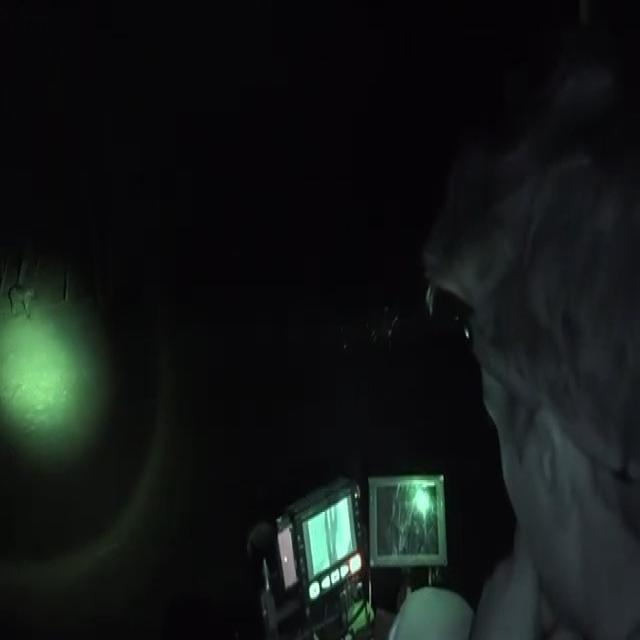animal: (4, 270, 48, 334)
device: (234, 433, 453, 640)
human: (451, 39, 640, 640)
